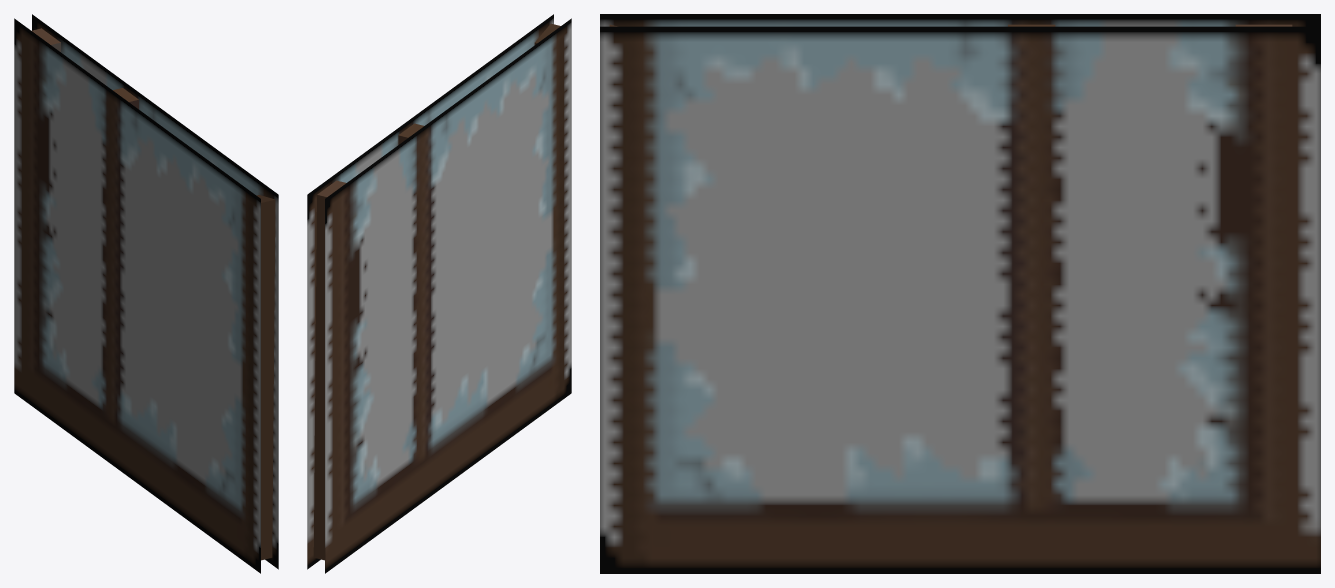
File: pz_native_location_hospitality_sunstarmotel_01_37_frame.obj
3 renders of one model, left to right at view 1: azimuth 30°, elevation 25°; view 2: azimuth 150°, elevation 25°; view 3: azimuth 270°, elevation 25°, orthographic. The views are drawn at different scales.
Parts seen in each view (by area): view 1: pz_native_location_hospitality_sunstarmotel_01_37_frame; view 2: pz_native_location_hospitality_sunstarmotel_01_37_frame; view 3: pz_native_location_hospitality_sunstarmotel_01_37_frame.
Boxes of the visible parts, bbox=[...] form: pz_native_location_hospitality_sunstarmotel_01_37_frame: bbox=[14, 14, 278, 573]; pz_native_location_hospitality_sunstarmotel_01_37_frame: bbox=[307, 14, 571, 573]; pz_native_location_hospitality_sunstarmotel_01_37_frame: bbox=[600, 14, 1320, 573].
Bounding box in the file's own units: 0.04 × 0.8125 × 0.9696.
Materials: 1 (1 with a texture image).
